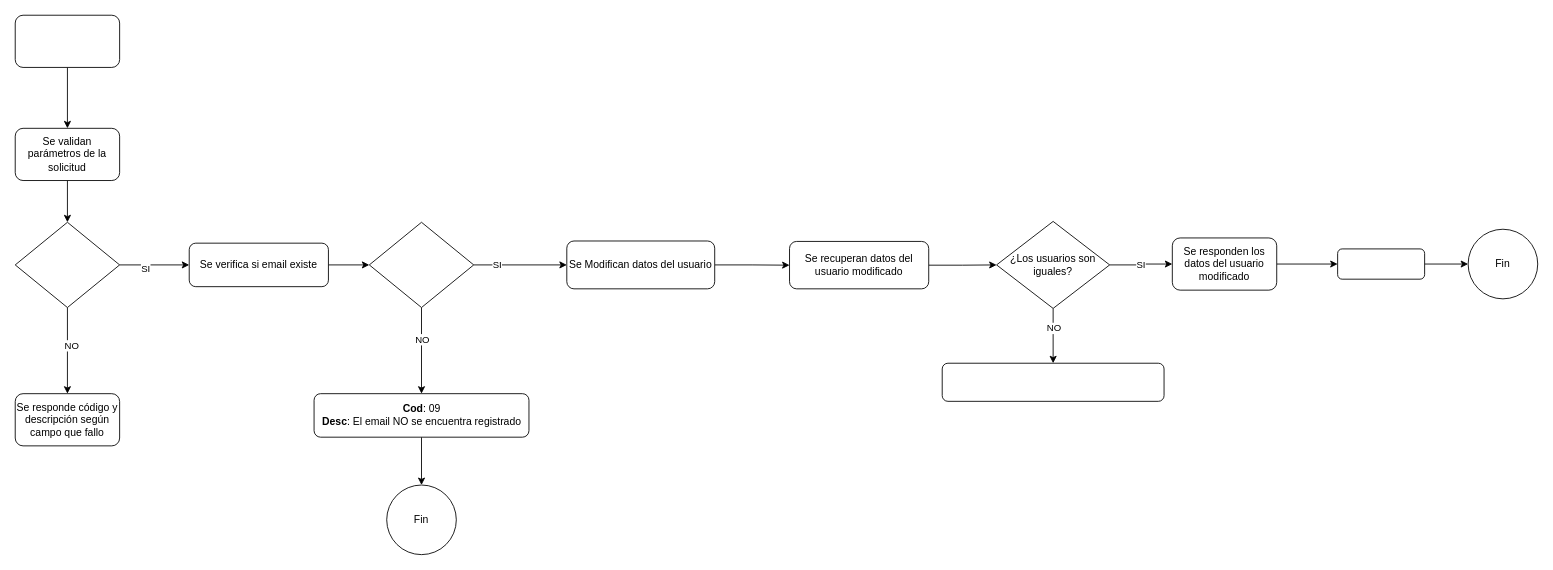
Image size: 1553x570. Some labels were removed from this diagram. Here are the shapes that lost their labels. From the top down, the centre of each, then its label:
At point 67,40: "/modifyUser".
At point 67,264: "¿OK?".
At point 421,264: "¿Email Existe?".
At point 1381,263: "Cod : 00 Desc : OK".
At point 1052,381: "Cod : 10 Desc : Error en la actualización del usuario".
